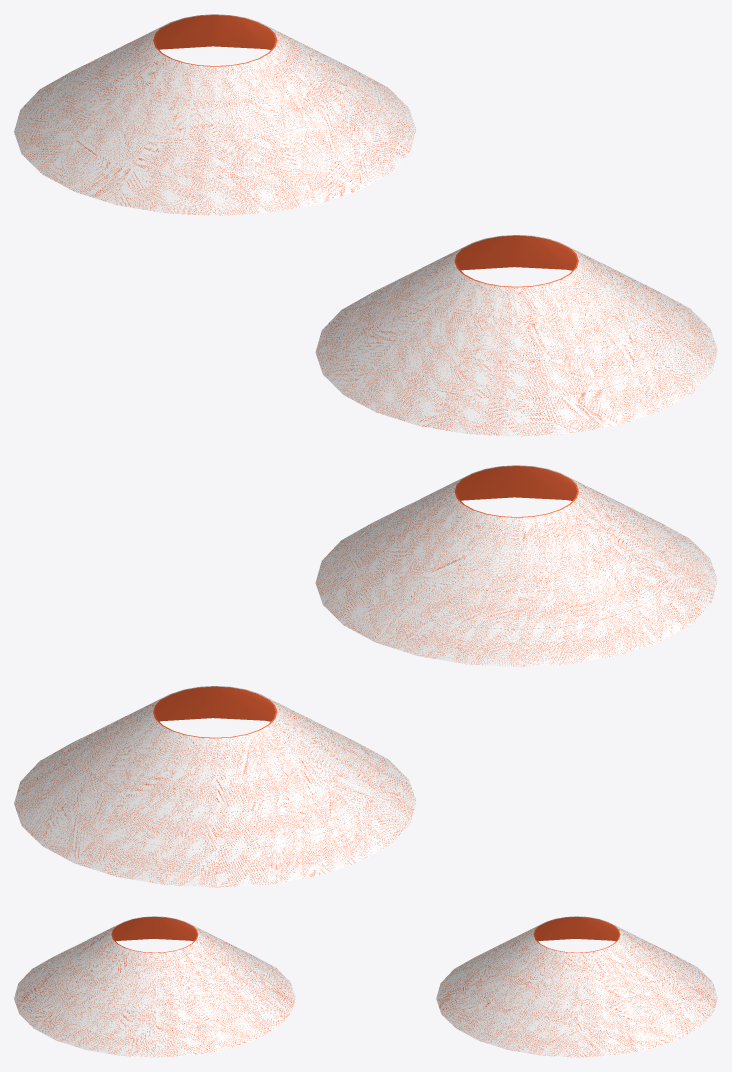
The model's file is Cones.dae.
The picture shows the model from 3 angles, top to bottom: view 1: azimuth 30°, elevation 25°; view 2: azimuth 150°, elevation 25°; view 3: azimuth 270°, elevation 25°; orthographic projection. The views are drawn at different scales.
Parts seen in each view (by area): view 1: SketchUp (×6); view 2: SketchUp (×6); view 3: SketchUp (×6).
Part boxes in pixels (<box>): SketchUp (×6): <box>14,14,717,436</box>; SketchUp (×6): <box>14,465,717,887</box>; SketchUp (×6): <box>14,916,717,1057</box>.
Size of the model in its own units: 7.26 by 18.13 by 1.8.
